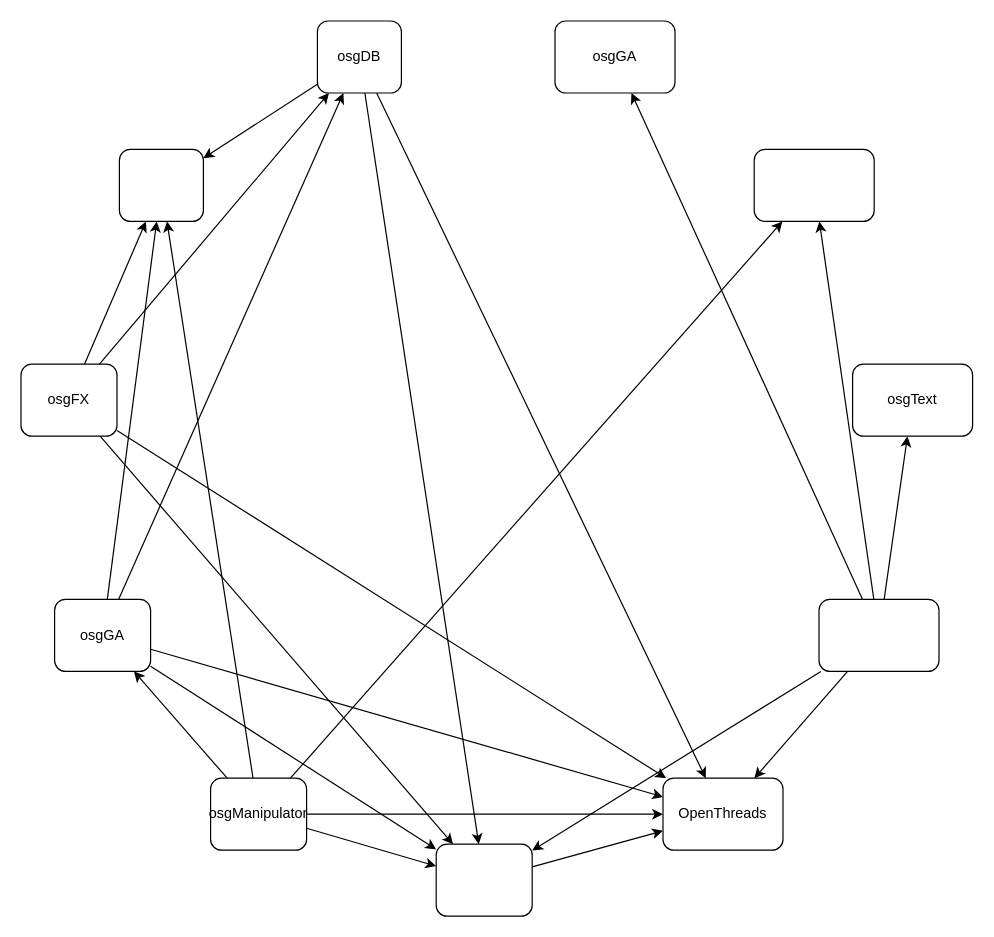
The diagram is 994 pixels wide and 937 high, and some of its shapes have lost their labels. The shapes that lost their labels are listed below. From the top down, each one's centre as x and y in pixels, then its label:
At point 160,184: "osgUtil".
At point 813,184: "osgViewer".
At point 878,634: "osgAnimation".
At point 483,879: "osg".
